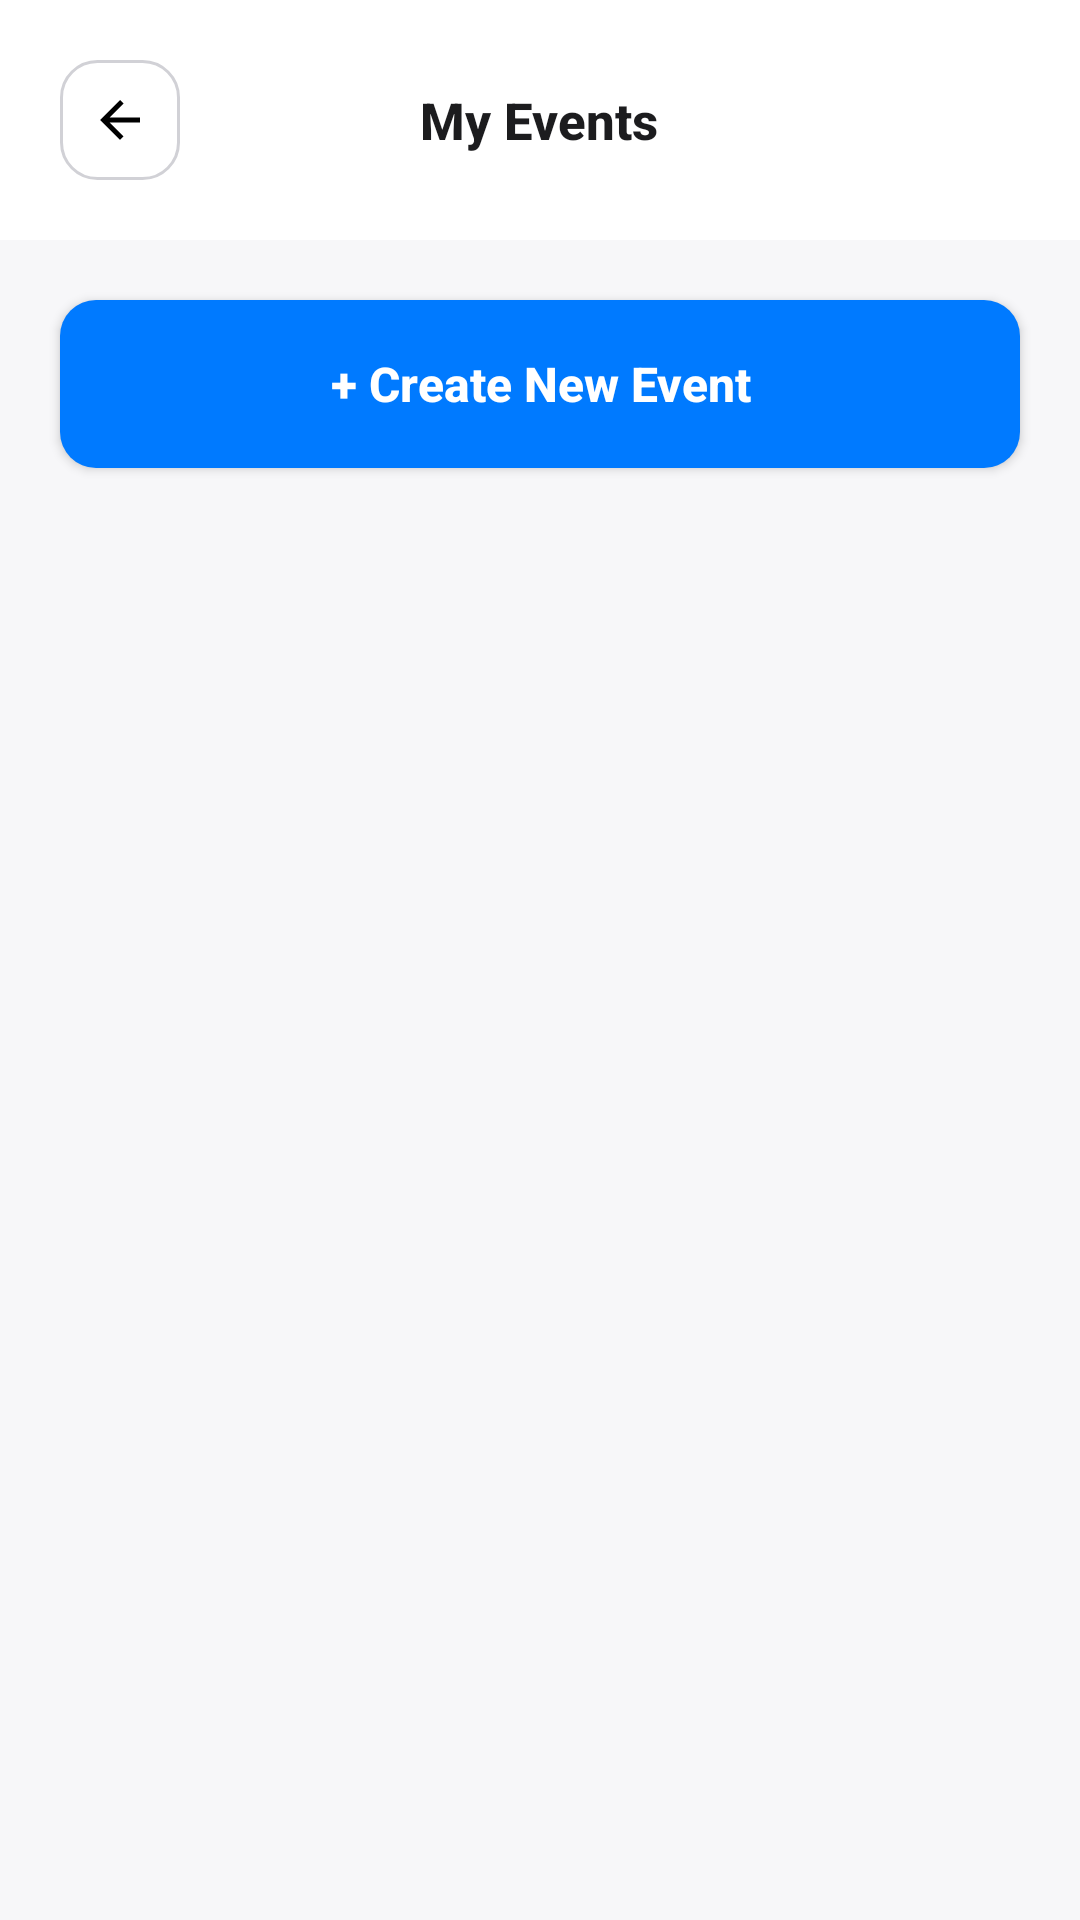

Screen size 1080×1920. Icon name, then its box in pixels as Rect(x1, y1, x2, y2):
back: Rect(60, 60, 180, 180)
